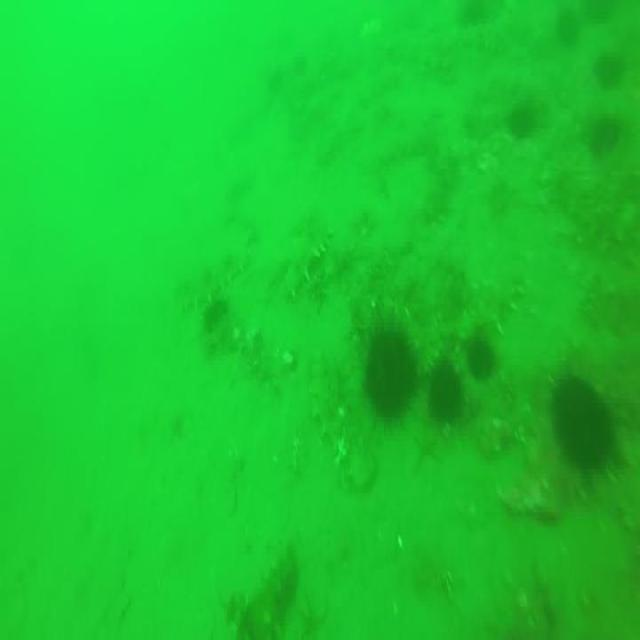echinus: (364, 318, 416, 425), (554, 382, 613, 474), (426, 356, 459, 424), (592, 110, 623, 156), (503, 102, 539, 138), (552, 8, 580, 49), (592, 44, 622, 82), (473, 333, 491, 382)
holothurian: (160, 242, 250, 316), (228, 547, 298, 640), (283, 196, 337, 310), (492, 247, 526, 331)
